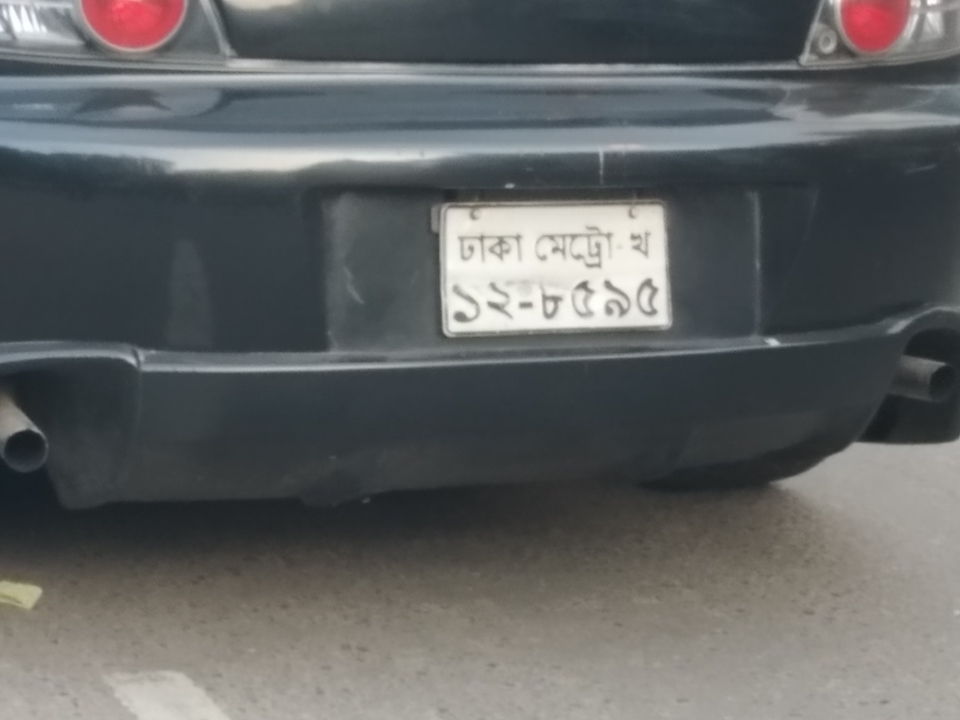registration_plate: (438, 197, 674, 339)
